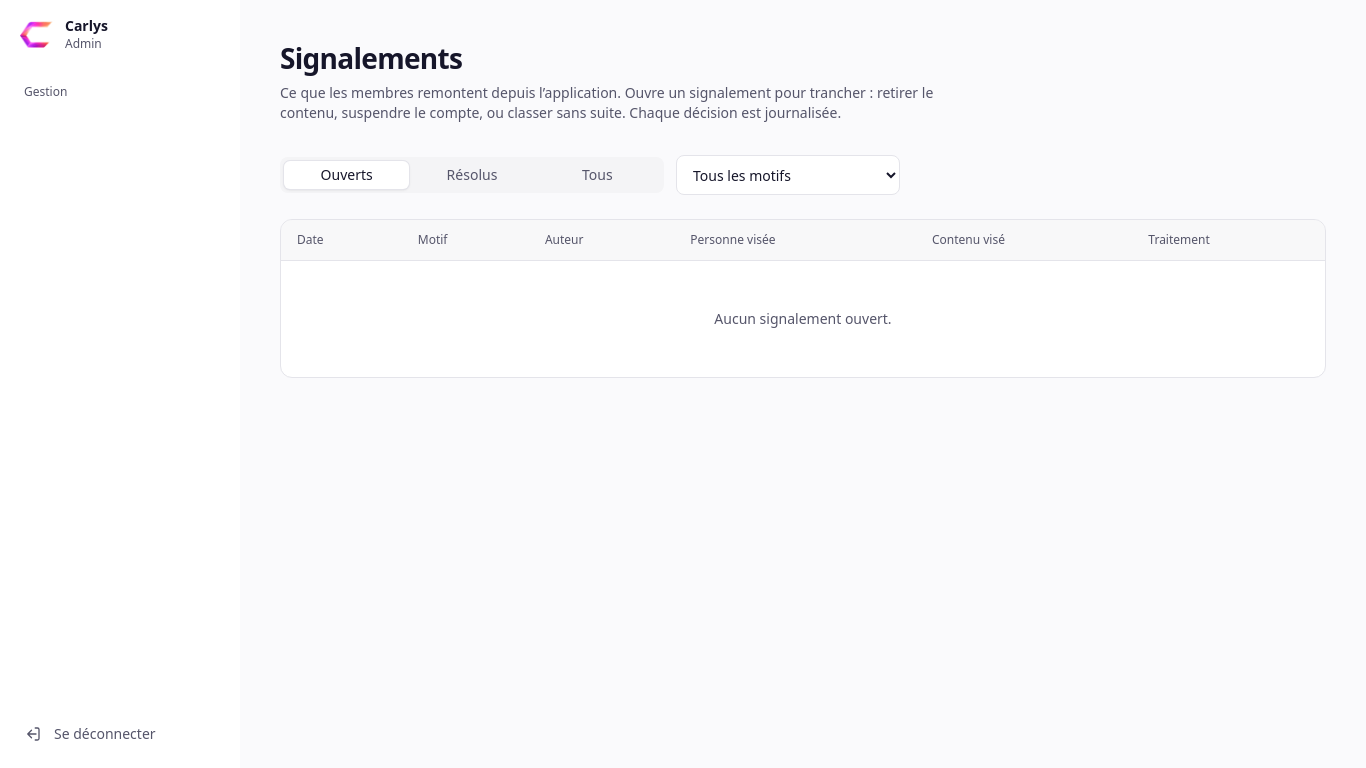
Test: Page Signalements › change de filtre : Résolus puis Tous interrogent le serveur avec ce statut
This screenshot has width=1366, height=768.
Later steps or results of the test are not shown.
Expected: the text "Aucun signalement ouvert." is shown, x1=281 y1=261 x2=1325 y2=377
Click the radio button labelled "Résolus": coordinates (472, 175) x1=447 y1=165 x2=497 y2=184
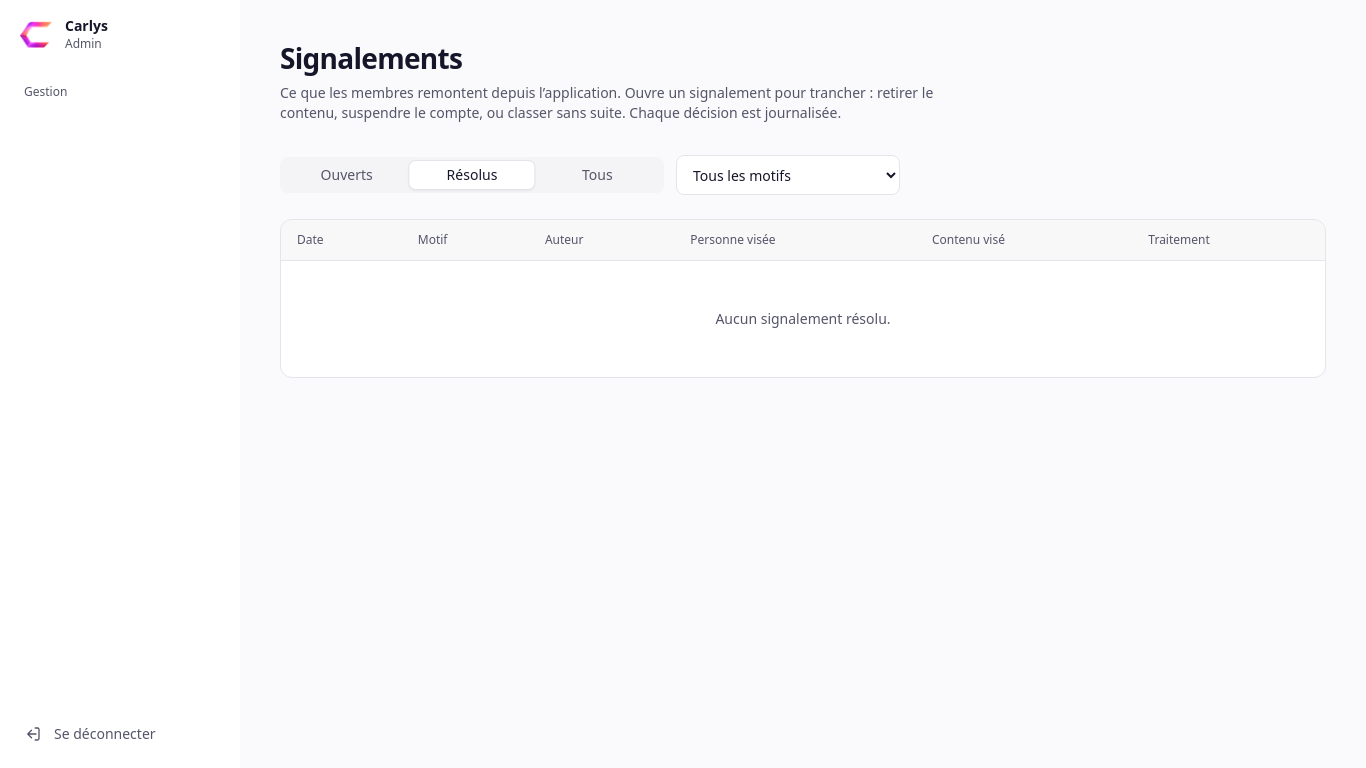
Expected: the text "Aucun signalement résolu." is shown, x1=281 y1=261 x2=1325 y2=377
